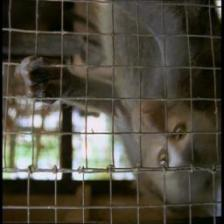monkey: (136, 83, 214, 213)
